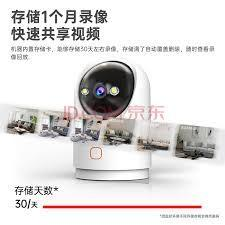maru: (66, 53, 176, 190)
